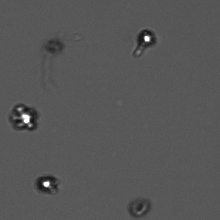Dead Cell: (123, 195, 155, 218)
Living Cell: (6, 101, 42, 133), (137, 26, 159, 51), (37, 172, 58, 195)
